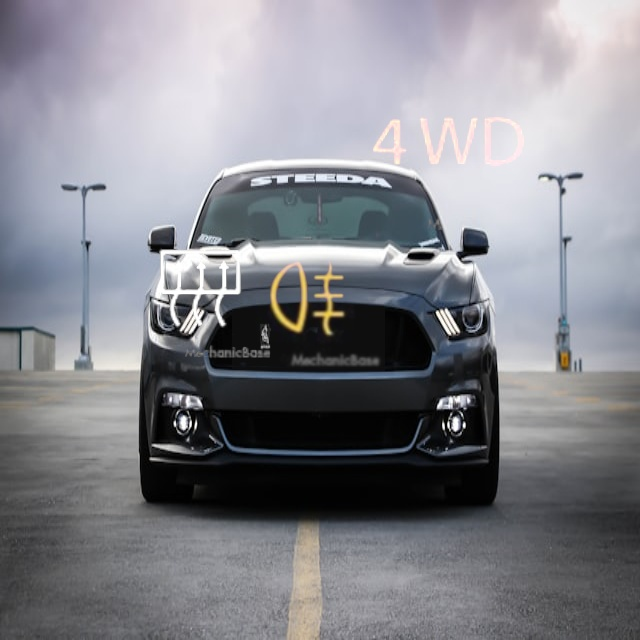symbol: (351, 47, 544, 240), (232, 220, 385, 373), (126, 215, 276, 365)
